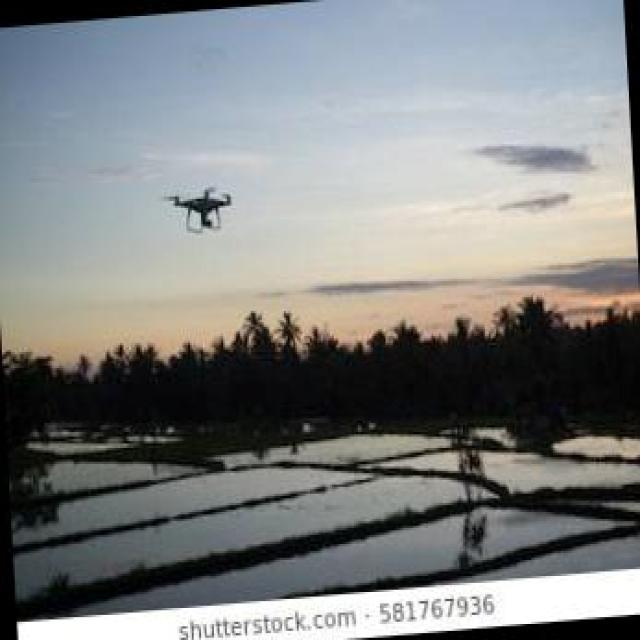drone: (162, 180, 236, 234)
